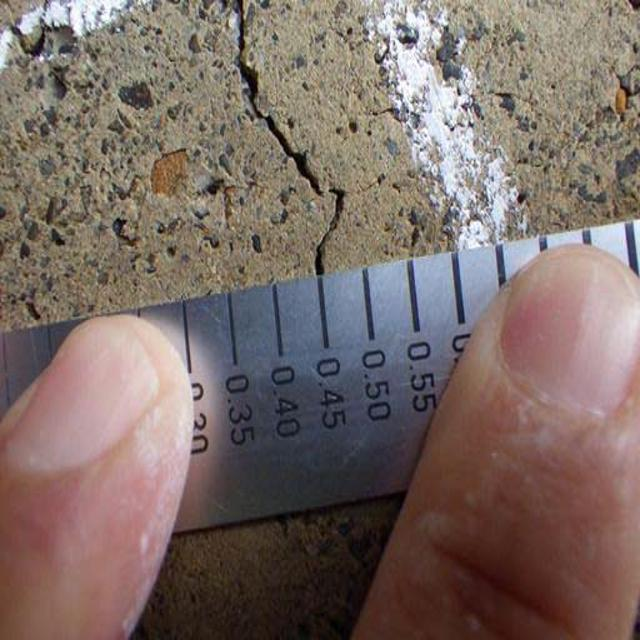crack: (227, 4, 350, 274)
